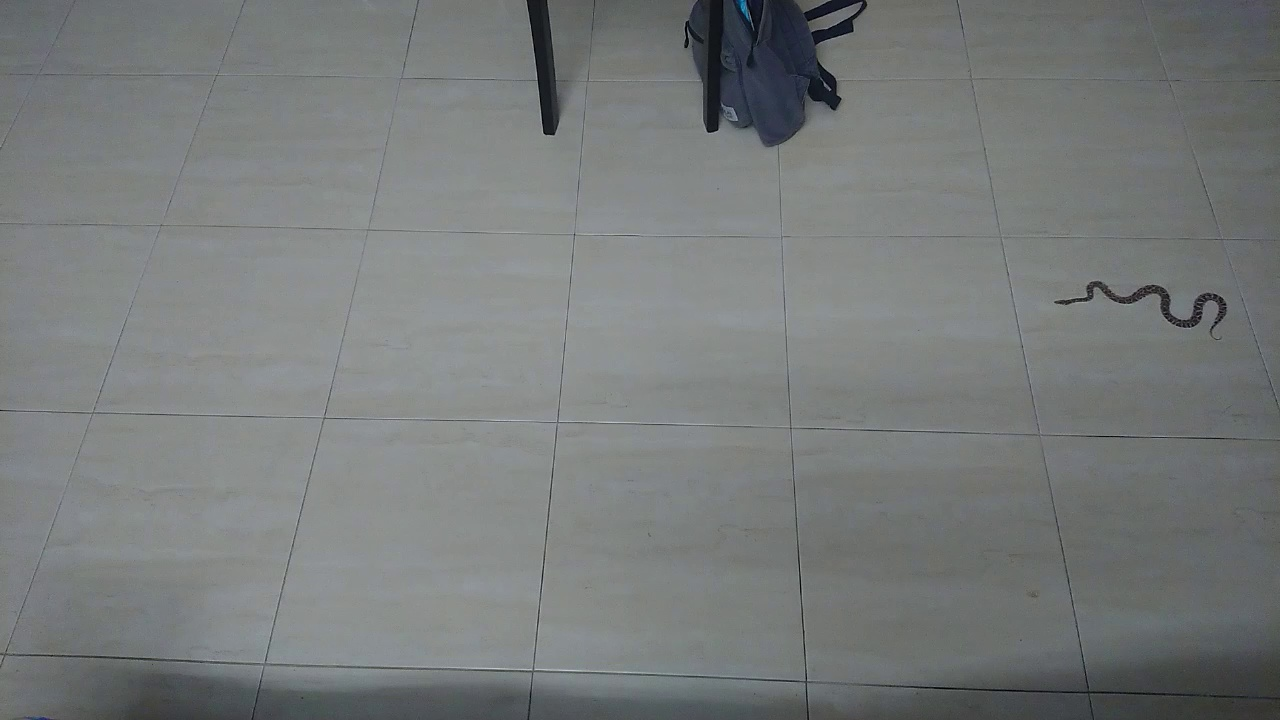snake: (1042, 268, 1244, 355)
